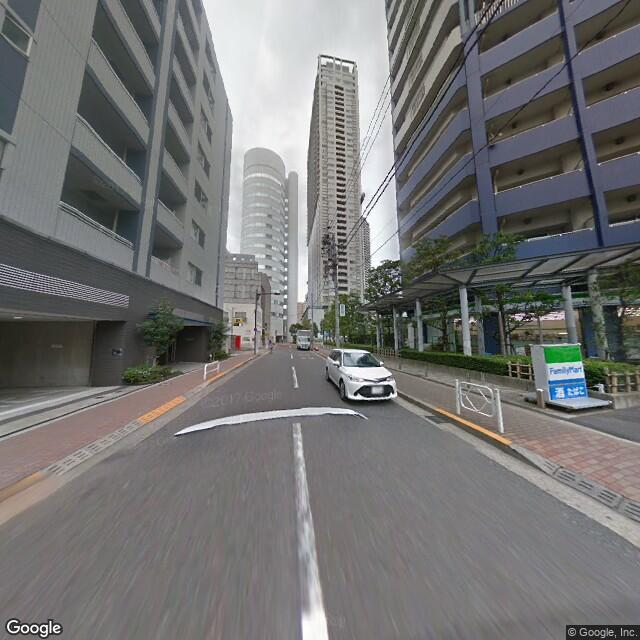family_mart: (544, 339, 585, 395)
